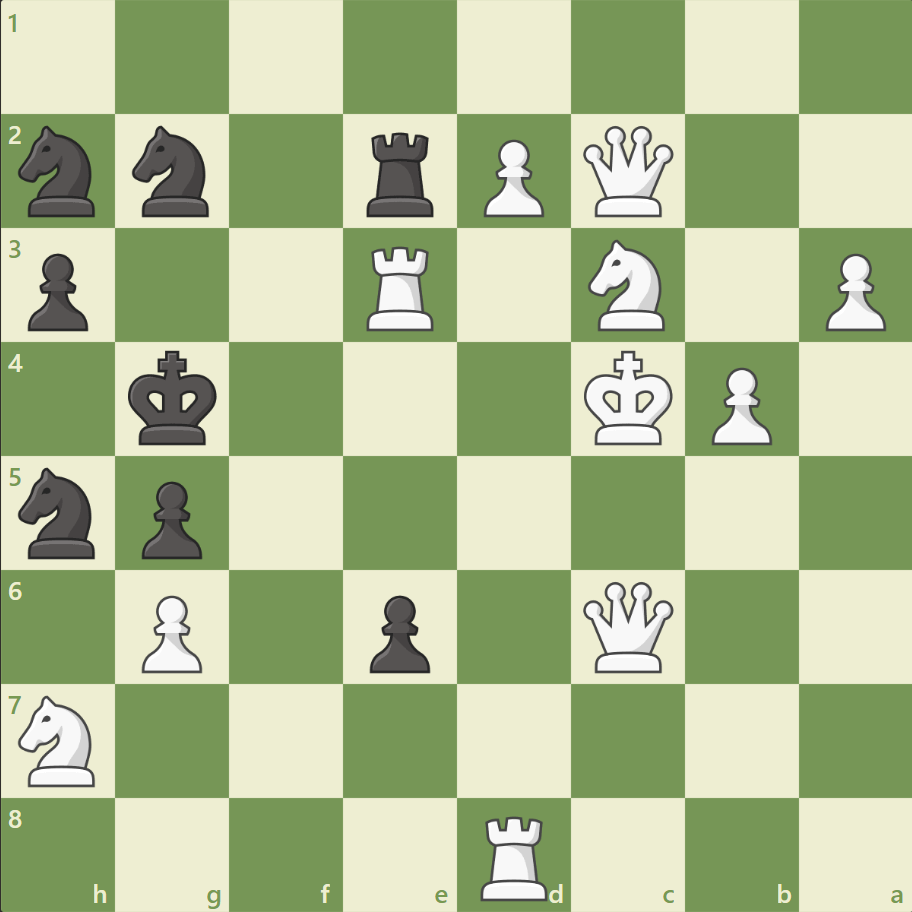K: (579, 344, 679, 452)
N: (11, 688, 108, 791), (579, 234, 676, 337)
P: (133, 586, 208, 677), (701, 359, 776, 450), (474, 132, 549, 223), (815, 246, 889, 337)
Q: (578, 576, 677, 676), (578, 122, 677, 222)
R: (473, 806, 556, 904), (360, 239, 442, 336)
k: (124, 344, 224, 452)
n: (124, 121, 222, 223), (11, 461, 108, 564), (11, 121, 108, 223)
p: (133, 473, 208, 564), (20, 246, 95, 337), (361, 586, 435, 677)
r: (360, 125, 442, 222)
